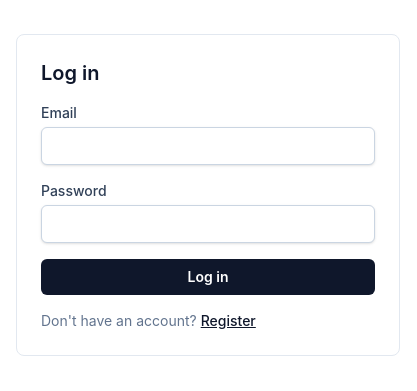
Test: LoginPage › shows the server error on invalid credentials
In the field labelled "Email": (208, 146) [41,127,375,165], type "me@prepstack.dev"
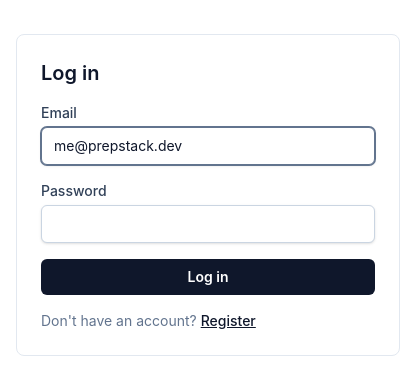
In the password field labelled "Password": (208, 224) [41,205,375,243], type "wrong-password"
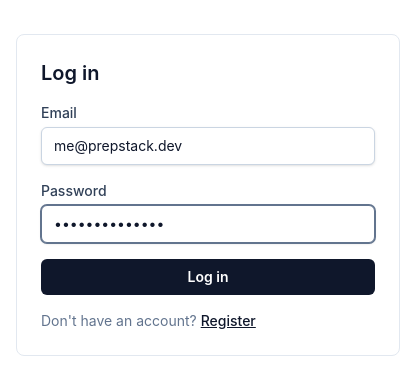
Click the button "Log in": (208, 277) [41,259,375,295]
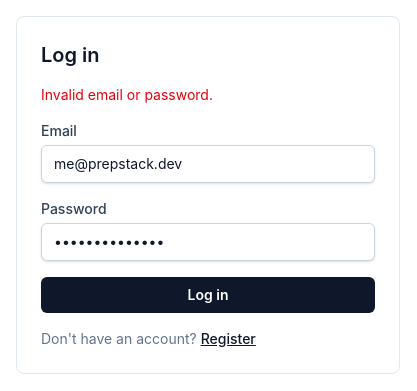
Expected: the message reads "Invalid email or password.", [41,86,213,103]
